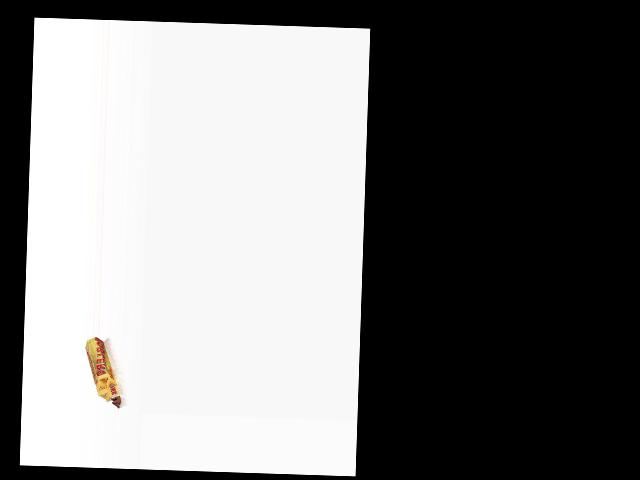chocolate: (82, 337, 126, 408)
